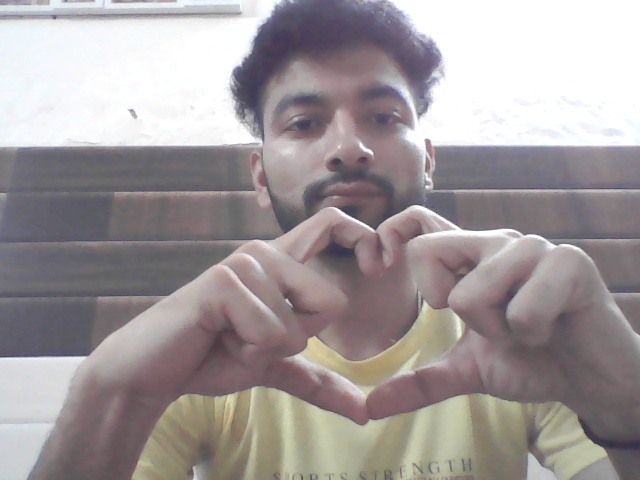Iloveyou: (211, 211, 556, 442)
